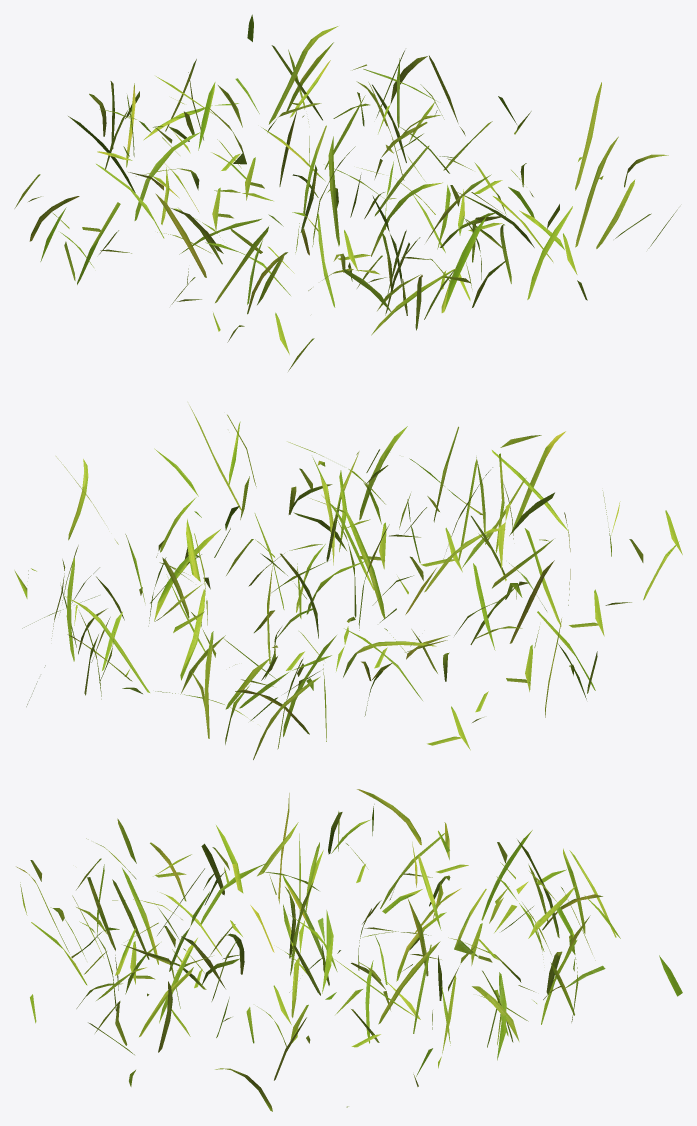
File: grass_tiny.glb
The picture shows the model from 3 angles, top to bottom: view 1: azimuth 30°, elevation 25°; view 2: azimuth 150°, elevation 25°; view 3: azimuth 270°, elevation 25°; orthographic projection. The views are drawn at different scales.
Parts seen in each view (by area): view 1: grass_tiny.glb; view 2: grass_tiny.glb; view 3: grass_tiny.glb.
Boxes of the visible parts, x1=… form: grass_tiny.glb: x1=14, y1=14, x2=677, y2=371; grass_tiny.glb: x1=14, y1=405, x2=682, y2=759; grass_tiny.glb: x1=16, y1=789, x2=682, y2=1111.
Size of the model in its own units: 0.353 by 0.0643 by 0.3773.
1 material, 1 textured.
